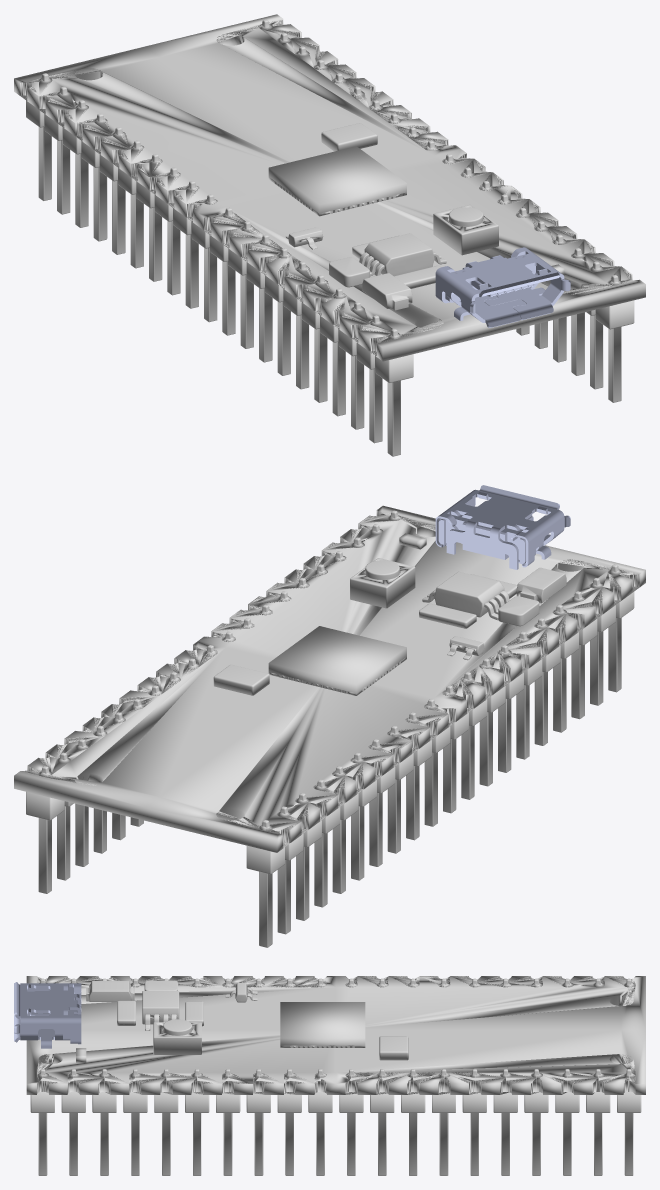
File: Pi Pico H.obj
3 renders of one model, top to bottom at view 1: azimuth 30°, elevation 25°; view 2: azimuth 150°, elevation 25°; view 3: azimuth 270°, elevation 25°, orthographic. The views are drawn at different scales.
Parts seen in each view (by area): view 1: Pi_Pico_H, Micro_USB_port; view 2: Pi_Pico_H, Micro_USB_port; view 3: Pi_Pico_H, Micro_USB_port.
Boxes of the visible parts, x1,y1,x2,y2 form: Pi_Pico_H: [14, 14, 645, 456]; Micro_USB_port: [435, 247, 570, 327]; Pi_Pico_H: [14, 505, 645, 947]; Micro_USB_port: [435, 485, 570, 569]; Pi_Pico_H: [26, 976, 645, 1175]; Micro_USB_port: [14, 982, 81, 1048].
Size of the model in its own units: 21 by 12 by 52.03.
